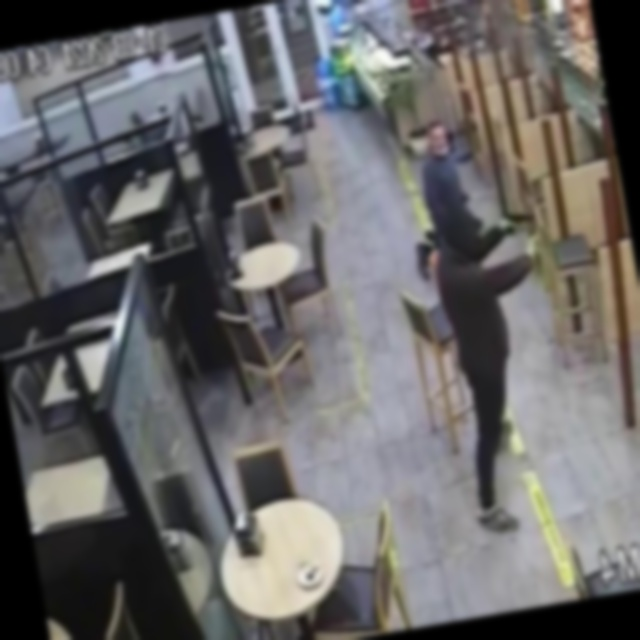gun: (486, 191, 548, 248)
